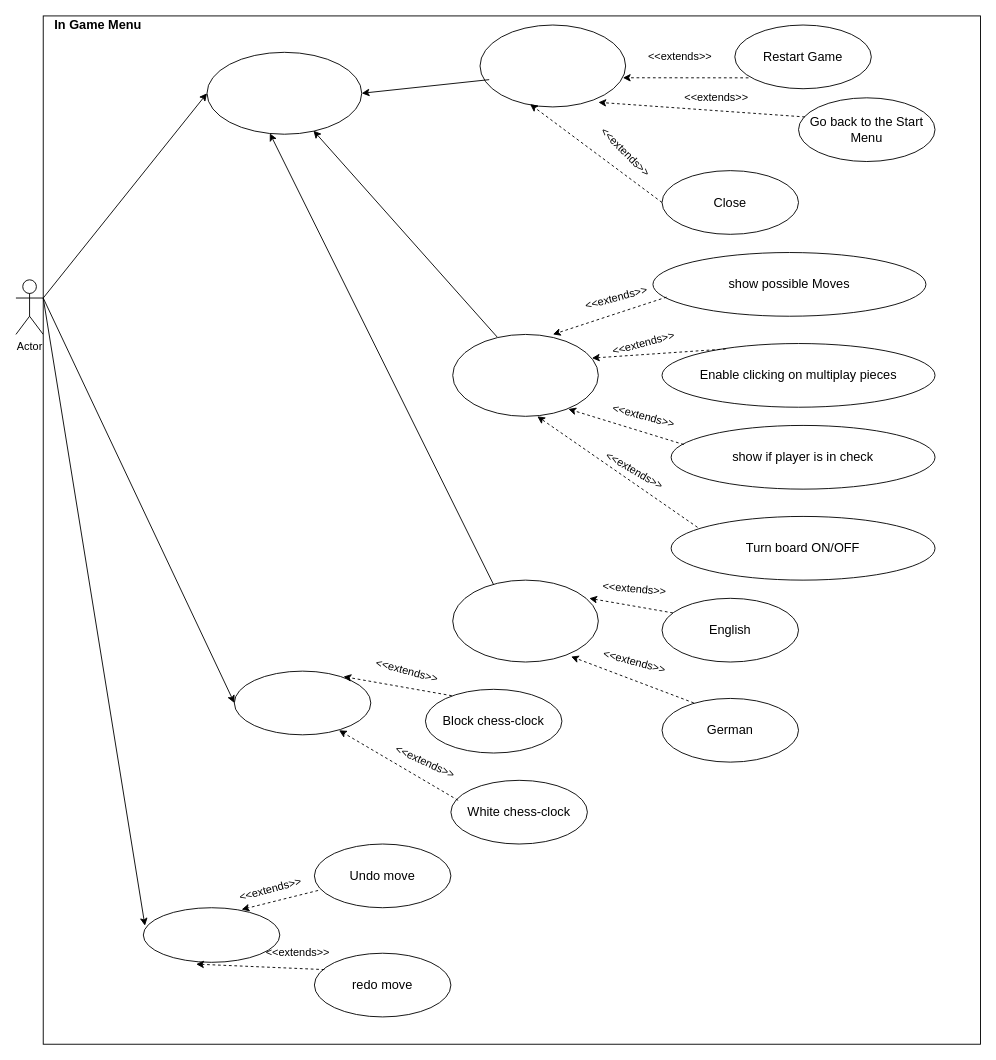
This 996x1060 diagram has some shape labels left out. Each missing label, with the centre of its shape:
"Access Menu bar items" goes at (x=284, y=92).
"Game" goes at (x=552, y=65).
"Language" goes at (x=525, y=620).
"Last Move table" goes at (x=211, y=934).
"Settings" goes at (x=525, y=375).
"Start chess-clock" goes at (x=302, y=702).
